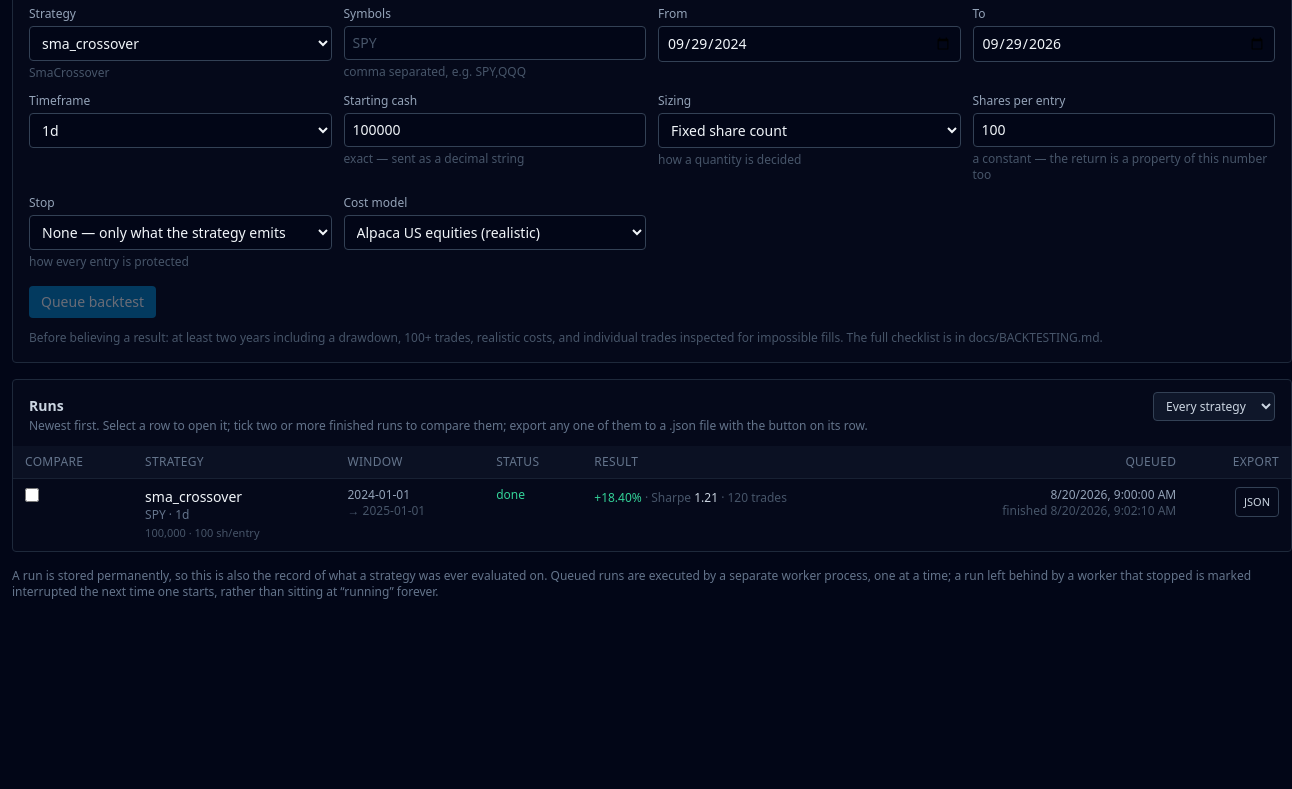
the trades of a finished run › says an open position is not a round trip rather than reporting nothing
Click the text "2024-01-01" at {"x": 410, "y": 515}, box left=336, top=478, right=484, bottom=551
(page scrolled)
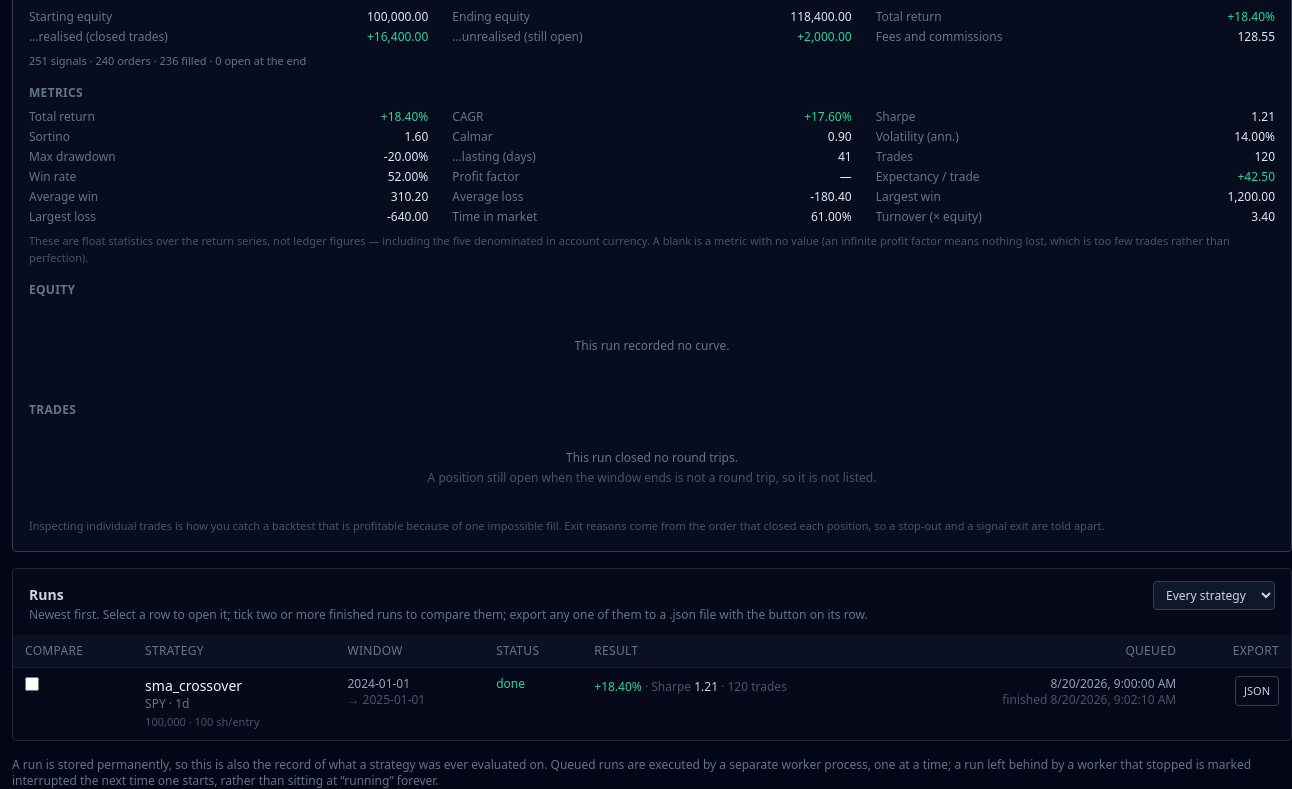
Result: the text "closed no round trips" is shown at left=566, top=449, right=738, bottom=466
Result: the text "still open when the window ends" is shown at left=428, top=469, right=876, bottom=486
